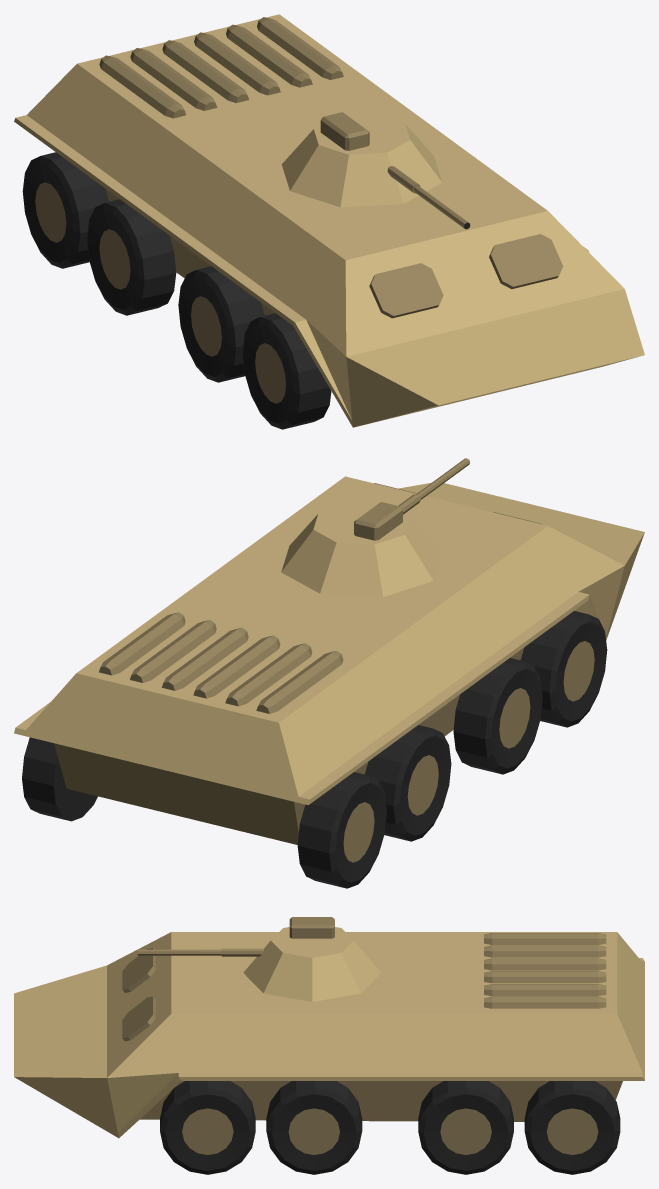
File: IFV_Wheels_02.fbx
3 views of the same model, one above another, from view 1: azimuth 30°, elevation 25°; view 2: azimuth 150°, elevation 25°; view 3: azimuth 270°, elevation 25° (orthographic). The views are drawn at different scales.
Parts seen in each view (by area): view 1: IFV_Wheels_02, IFV_Wheels_02_Turret, IFV_Wheels_02_Barrel; view 2: IFV_Wheels_02, IFV_Wheels_02_Turret, IFV_Wheels_02_Barrel; view 3: IFV_Wheels_02, IFV_Wheels_02_Turret, IFV_Wheels_02_Barrel.
Part boxes in pixels (x1,y1,x2,y2): IFV_Wheels_02: [14, 14, 644, 429]; IFV_Wheels_02_Turret: [281, 112, 442, 207]; IFV_Wheels_02_Barrel: [387, 166, 470, 229]; IFV_Wheels_02: [14, 476, 644, 888]; IFV_Wheels_02_Turret: [281, 502, 441, 597]; IFV_Wheels_02_Barrel: [398, 458, 469, 514]; IFV_Wheels_02: [14, 932, 644, 1174]; IFV_Wheels_02_Turret: [243, 917, 380, 1001]; IFV_Wheels_02_Barrel: [137, 948, 263, 956].
Size of the model in its own units: 5.65 by 3.85 by 11.92.
